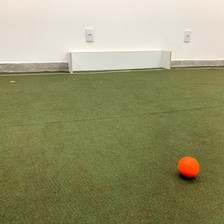ball: (175, 152, 201, 178)
goal: (63, 47, 175, 76)
